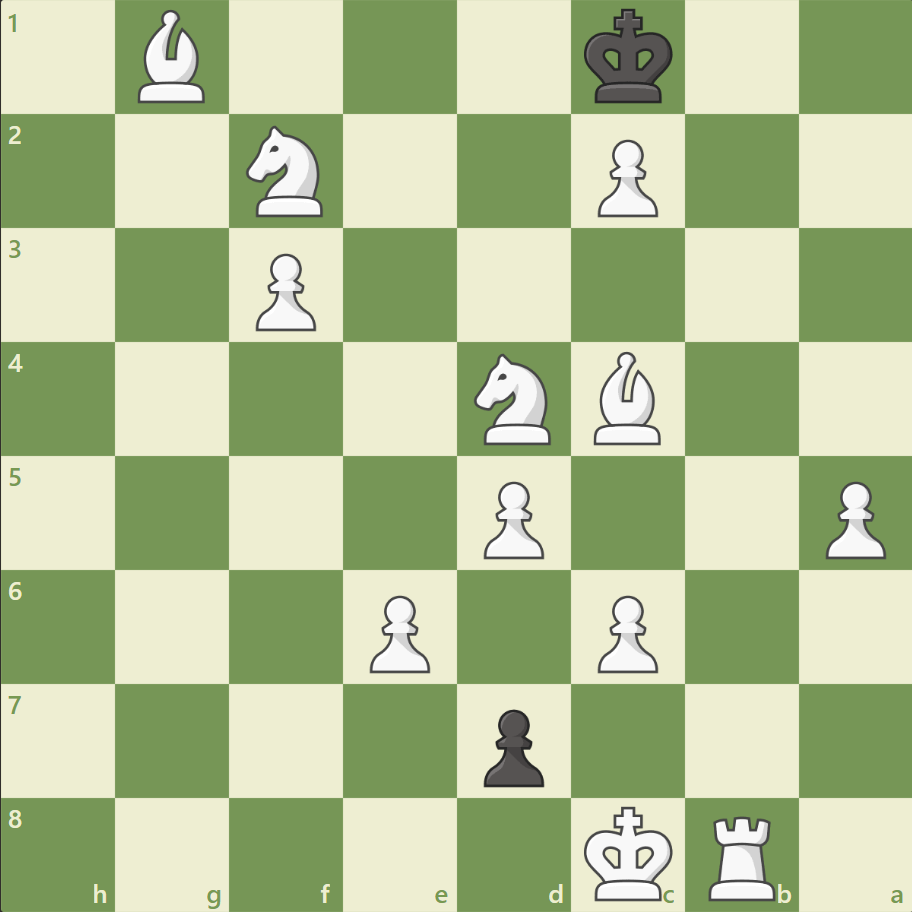B: (131, 6, 215, 109), (585, 347, 669, 449)
K: (579, 798, 679, 906)
N: (465, 348, 562, 450), (238, 121, 335, 223)
P: (474, 473, 549, 564), (247, 246, 322, 337), (588, 586, 662, 677), (361, 586, 435, 677), (815, 473, 889, 564), (588, 132, 662, 223)
R: (700, 806, 783, 904)
k: (579, 4, 679, 112)
p: (474, 700, 549, 791)
